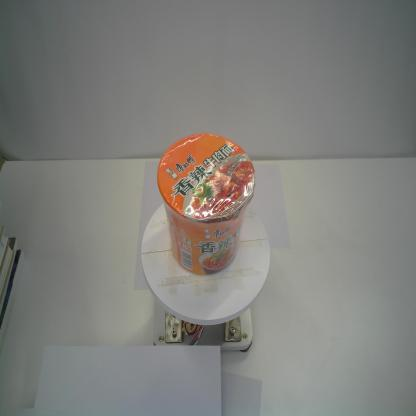Instant Noodles: (156, 131, 256, 278)
